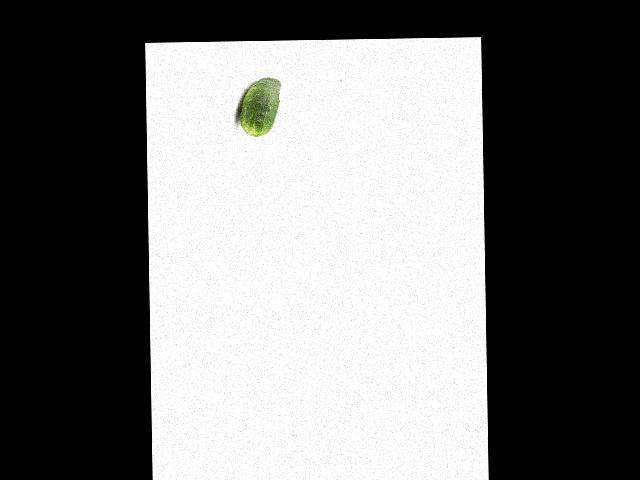cucumber: (239, 77, 281, 137)
